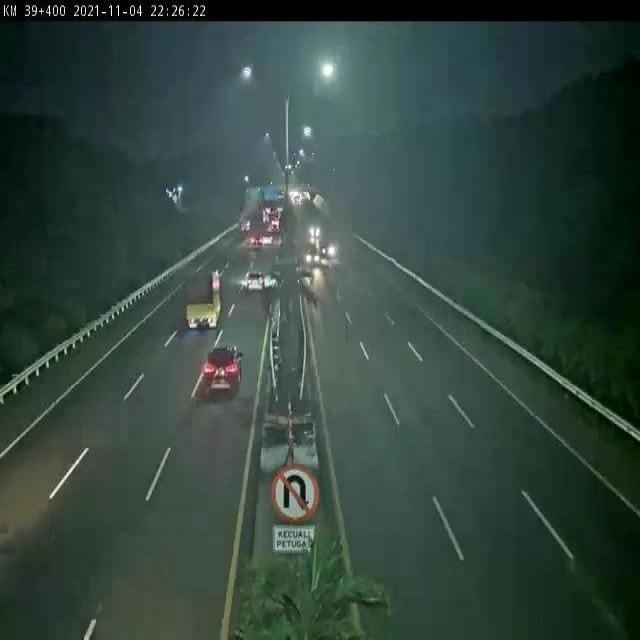car: (205, 346, 241, 391), (246, 270, 265, 290), (319, 240, 337, 260), (304, 248, 320, 267), (251, 232, 264, 249), (308, 223, 320, 236), (263, 232, 273, 244)
truck-m-: (181, 271, 222, 332)
